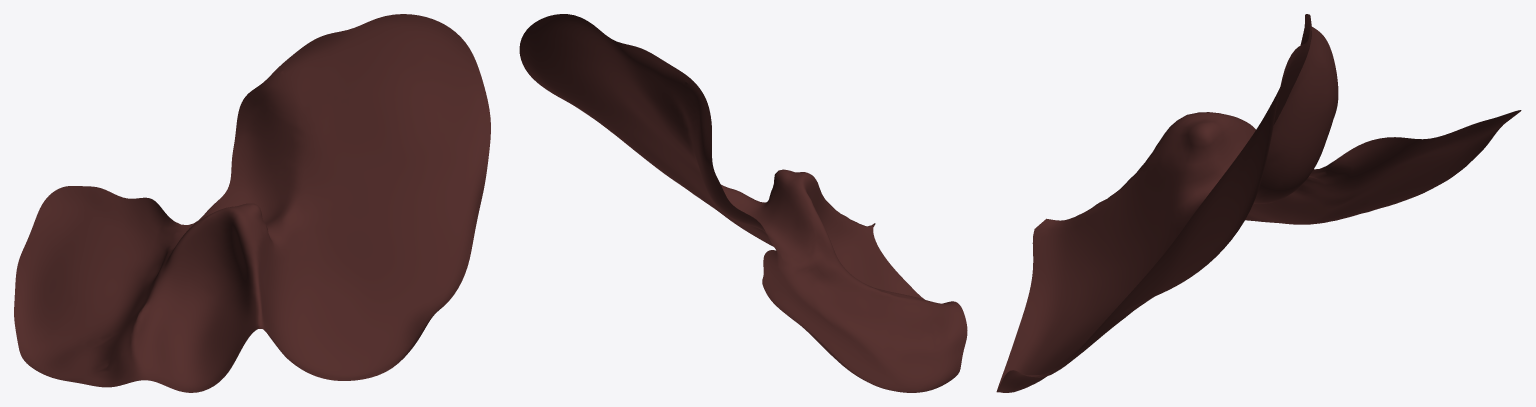
Rendered from frau2-530.glb.
3 views of the same model, side by side, from view 1: azimuth 30°, elevation 25°; view 2: azimuth 150°, elevation 25°; view 3: azimuth 270°, elevation 25° (orthographic). The views are drawn at different scales.
Parts seen in each view (by area): view 1: VH_F_diaphragmatic_surface_of_liver; view 2: VH_F_diaphragmatic_surface_of_liver; view 3: VH_F_diaphragmatic_surface_of_liver.
Part boxes in pixels (bbox=[...]): VH_F_diaphragmatic_surface_of_liver: bbox=[14, 14, 490, 392]; VH_F_diaphragmatic_surface_of_liver: bbox=[519, 14, 967, 392]; VH_F_diaphragmatic_surface_of_liver: bbox=[996, 14, 1521, 392].
Bounding box in the file's own units: 0.2279 × 0.1352 × 0.1515.
